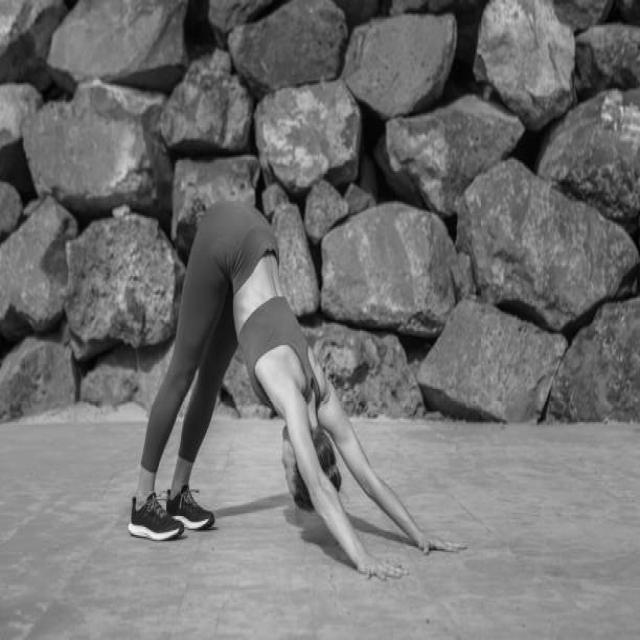Downward-Facing_Dog: (120, 196, 473, 586)
